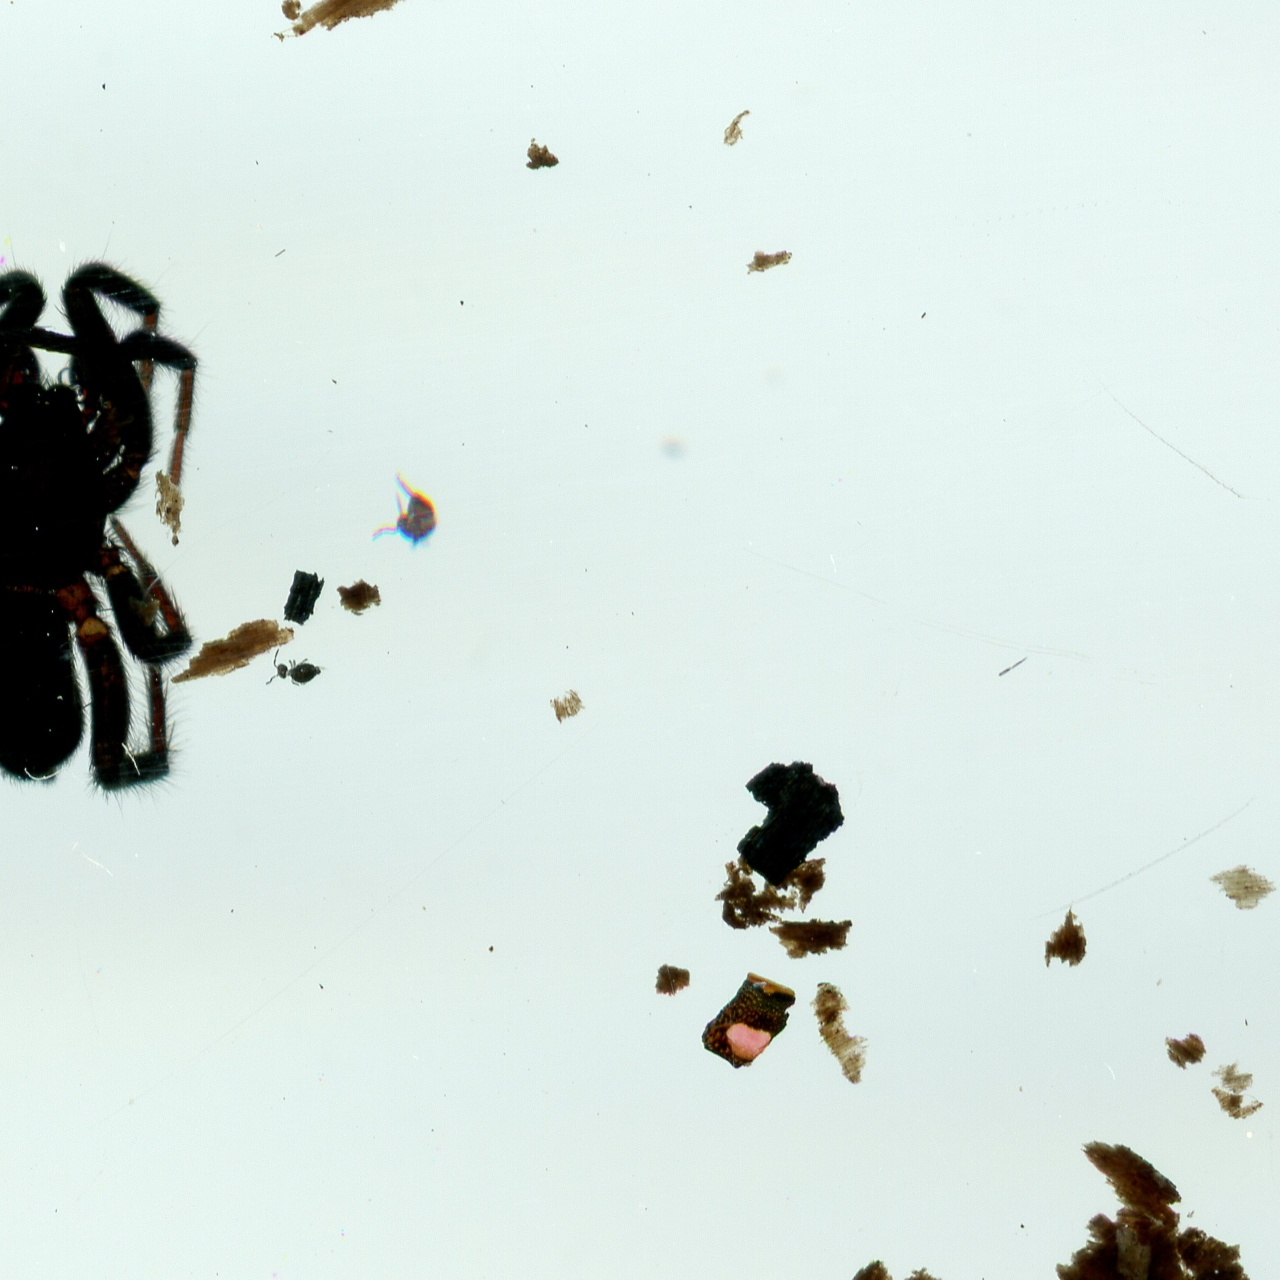arthropod: (0, 225, 223, 819), (372, 470, 445, 554)
